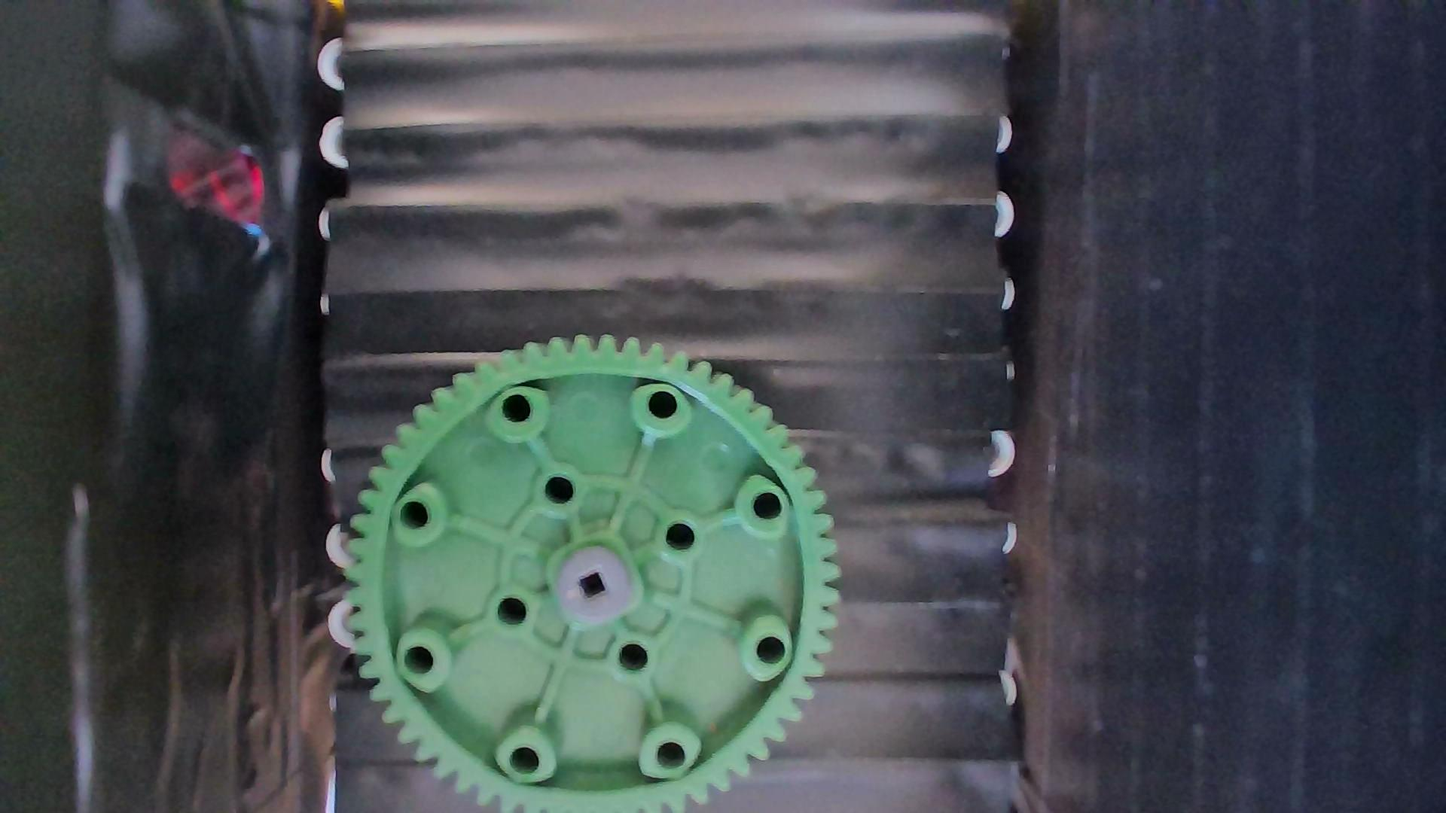gear: (341, 335, 840, 813)
